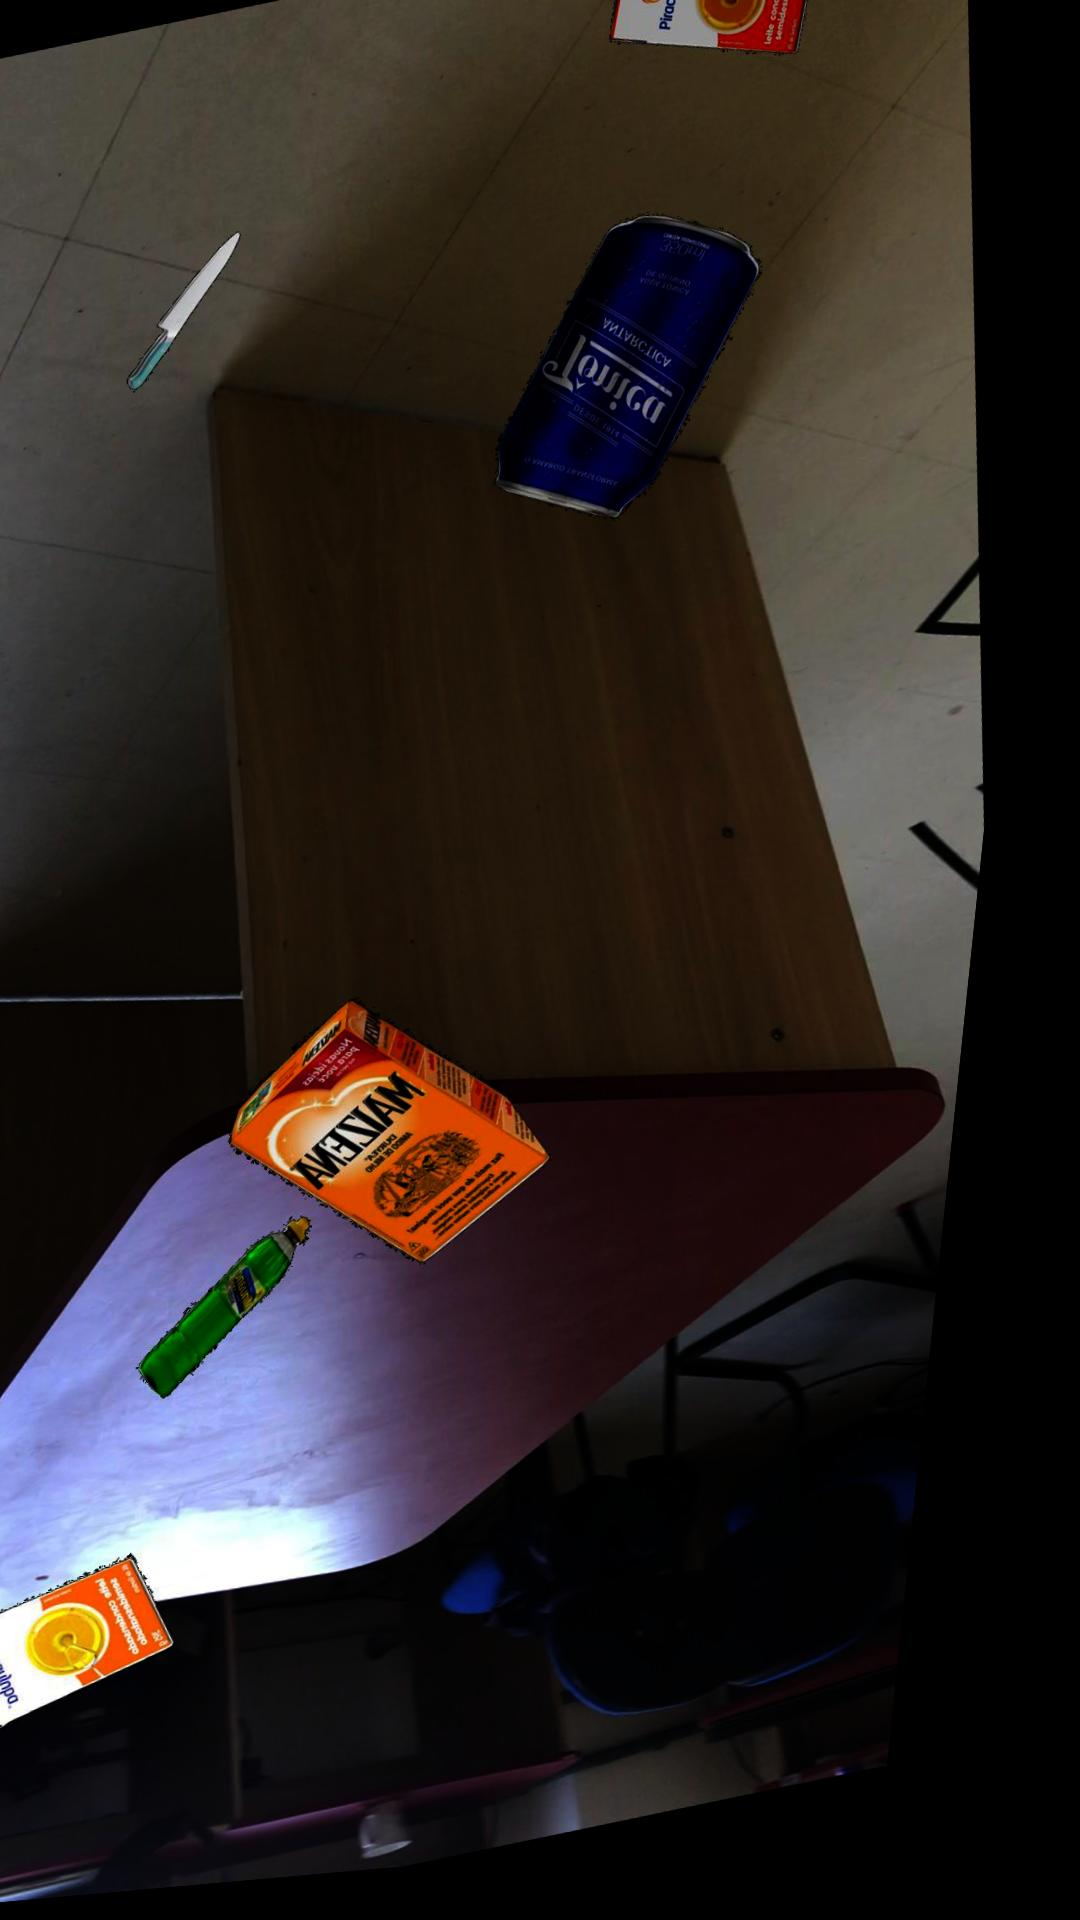cleaner: (167, 1225, 340, 1404)
knife: (137, 237, 248, 394)
tonic: (506, 229, 770, 533)
